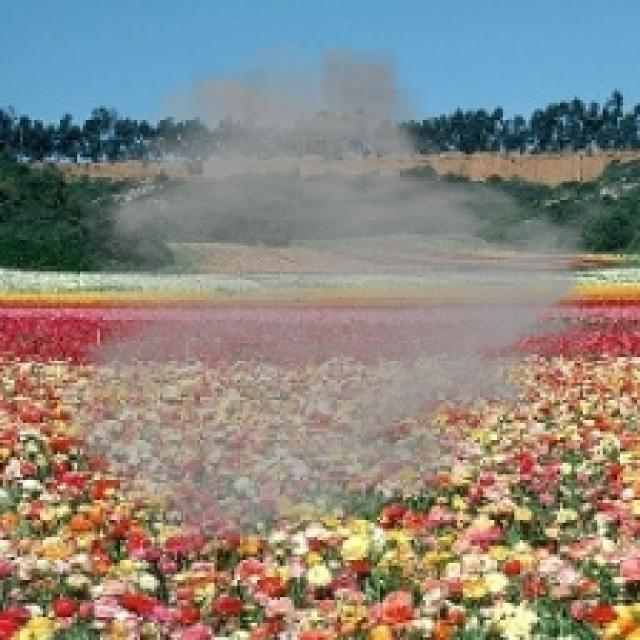Smoke: (52, 37, 618, 554)
